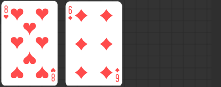6D: (113, 66, 120, 82)
8H: (2, 4, 9, 20)
